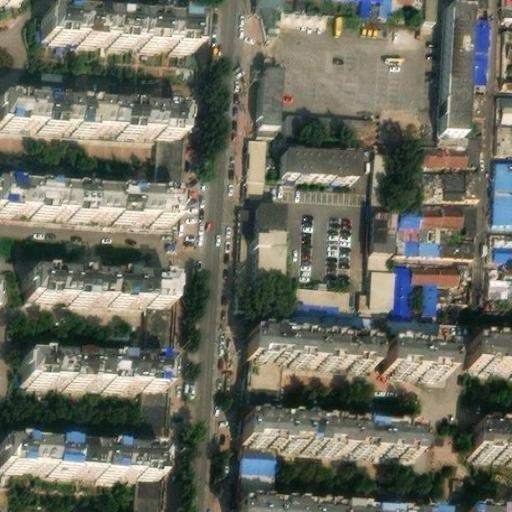building: (243, 411, 420, 447), (24, 263, 176, 301), (21, 346, 167, 383), (138, 299, 174, 443), (248, 325, 374, 363), (254, 197, 289, 303), (45, 1, 139, 38), (236, 496, 444, 512), (88, 182, 176, 215), (239, 435, 278, 499), (136, 7, 201, 43), (245, 354, 284, 413), (118, 98, 186, 131), (279, 145, 356, 172), (290, 276, 353, 308), (237, 203, 257, 302), (387, 338, 452, 368), (153, 129, 184, 188), (287, 107, 374, 127), (416, 165, 480, 192), (471, 332, 512, 366), (359, 265, 394, 304), (416, 141, 470, 166), (259, 60, 282, 117), (467, 11, 487, 76), (133, 469, 162, 512), (472, 421, 512, 451), (384, 316, 437, 338), (246, 134, 267, 189), (393, 262, 413, 314), (495, 156, 512, 217), (413, 262, 463, 282), (373, 144, 392, 196), (440, 221, 474, 250), (373, 204, 396, 245), (440, 200, 475, 222), (412, 281, 437, 310), (487, 263, 511, 292), (395, 220, 418, 248), (491, 229, 512, 259), (418, 221, 440, 249), (463, 499, 510, 512), (396, 199, 419, 221), (418, 200, 441, 221), (498, 118, 512, 147), (440, 126, 465, 142), (259, 116, 280, 135), (466, 91, 484, 110), (499, 92, 512, 118), (501, 24, 512, 51), (501, 0, 512, 15), (426, 0, 437, 12), (500, 70, 512, 80), (379, 0, 392, 8)
